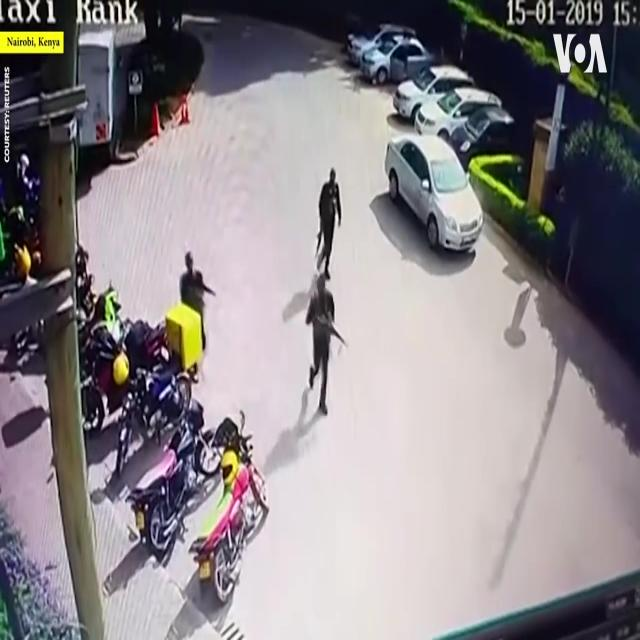Weapon: (310, 307, 351, 364), (190, 270, 226, 315), (316, 194, 330, 264)
